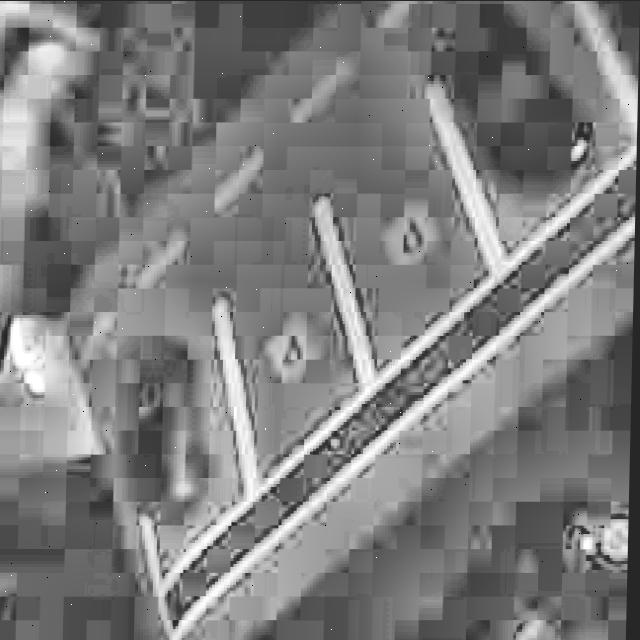car: (401, 0, 598, 217), (102, 323, 218, 548)
